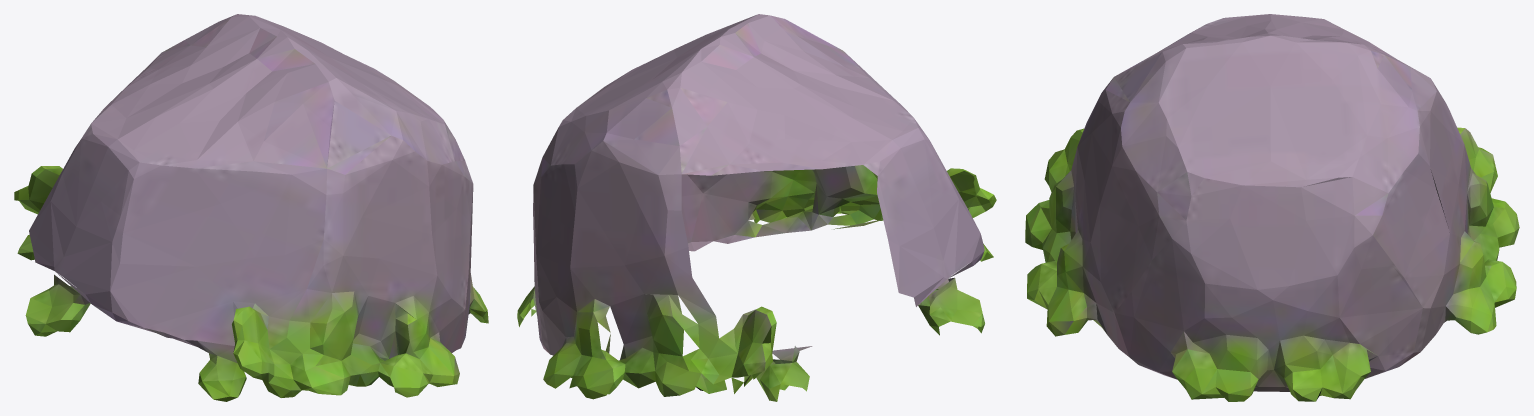
The model's file is M-6_06_rock_big.glb.
3 renders of one model, left to right at view 1: azimuth 30°, elevation 25°; view 2: azimuth 150°, elevation 25°; view 3: azimuth 270°, elevation 25°, orthographic. The views are drawn at different scales.
Visible parts, largest first — view 1: loA; view 2: loA; view 3: loA.
Boxes of the visible parts, x1,y1,x2,y2 form: loA: (14,14,488,401); loA: (517,14,996,401); loA: (1025,14,1519,401).
Size of the model in its own units: 3.52 by 2.33 by 3.61.
Materials: 1 (1 with a texture image).
